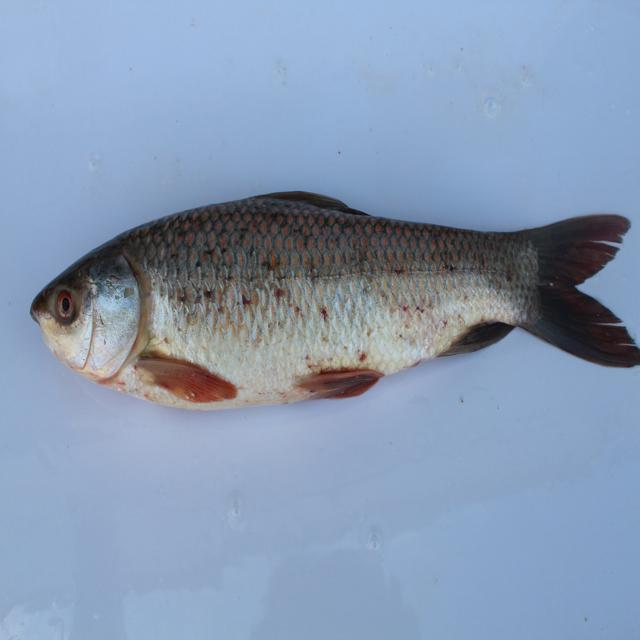Rohu: (41, 158, 640, 418)
